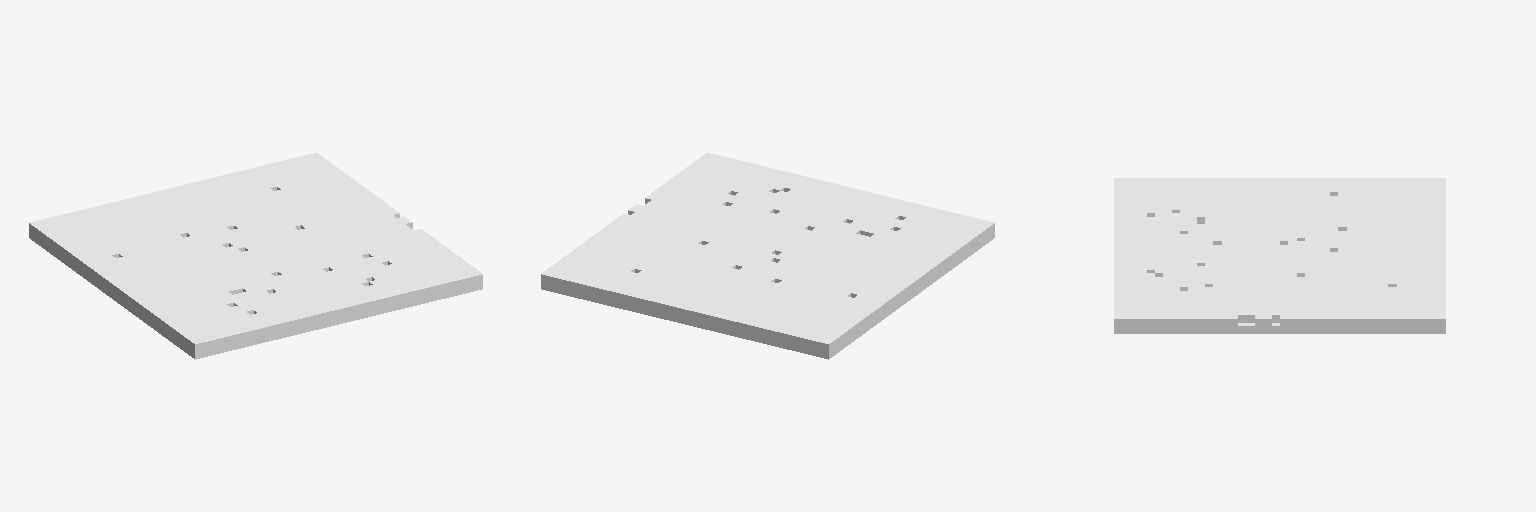
File: UndetailedRoad.obj
3 views of the same model, side by side, from view 1: azimuth 30°, elevation 25°; view 2: azimuth 150°, elevation 25°; view 3: azimuth 270°, elevation 25° (orthographic).
Size of the model in its own units: 40 by 2 by 40.